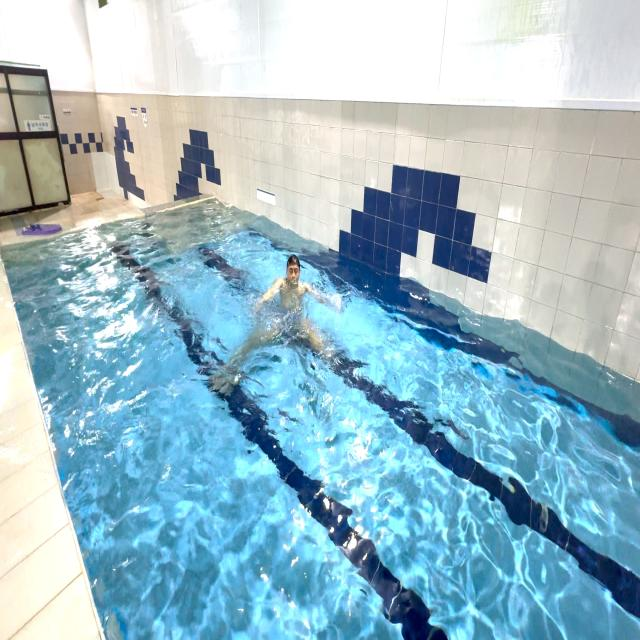Drowning: (241, 234, 343, 373)
